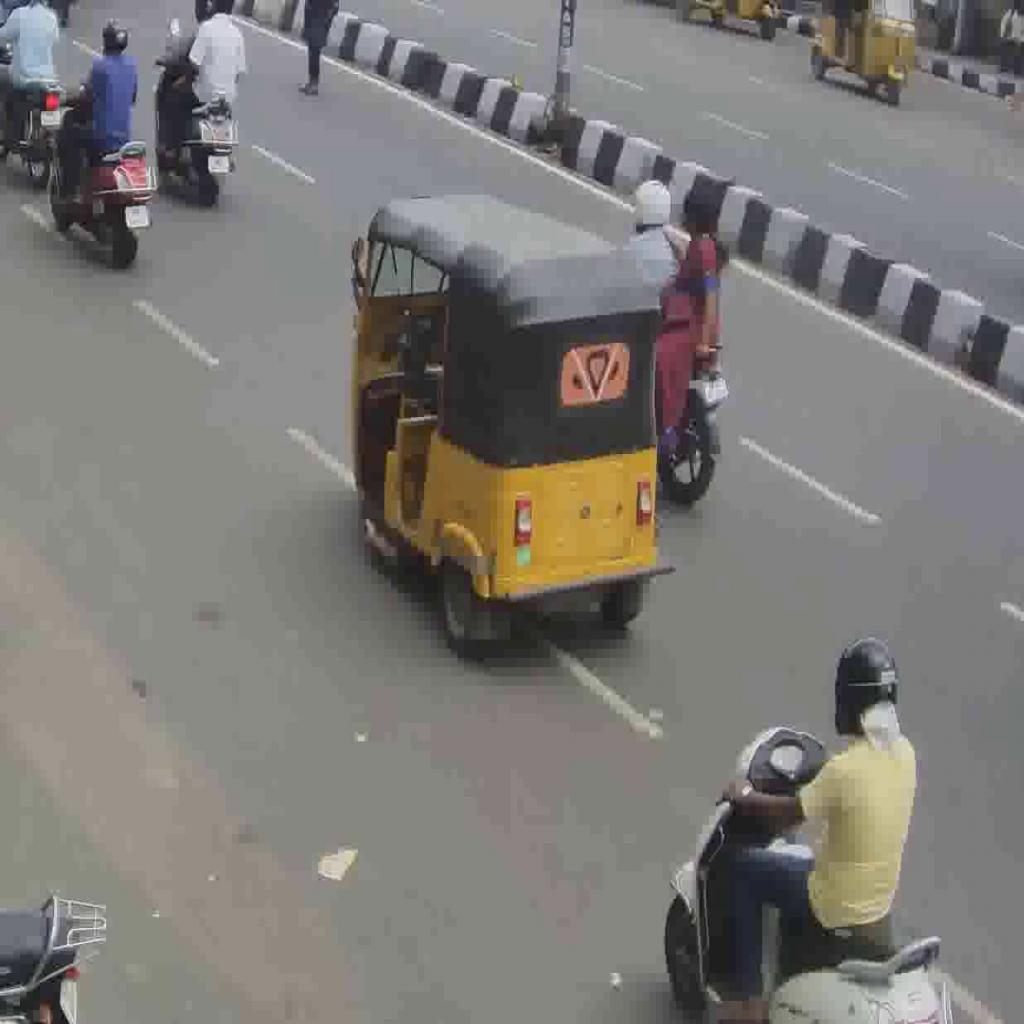helmet: (663, 720, 954, 1024), (49, 83, 159, 271), (154, 38, 240, 207), (0, 51, 63, 188)
